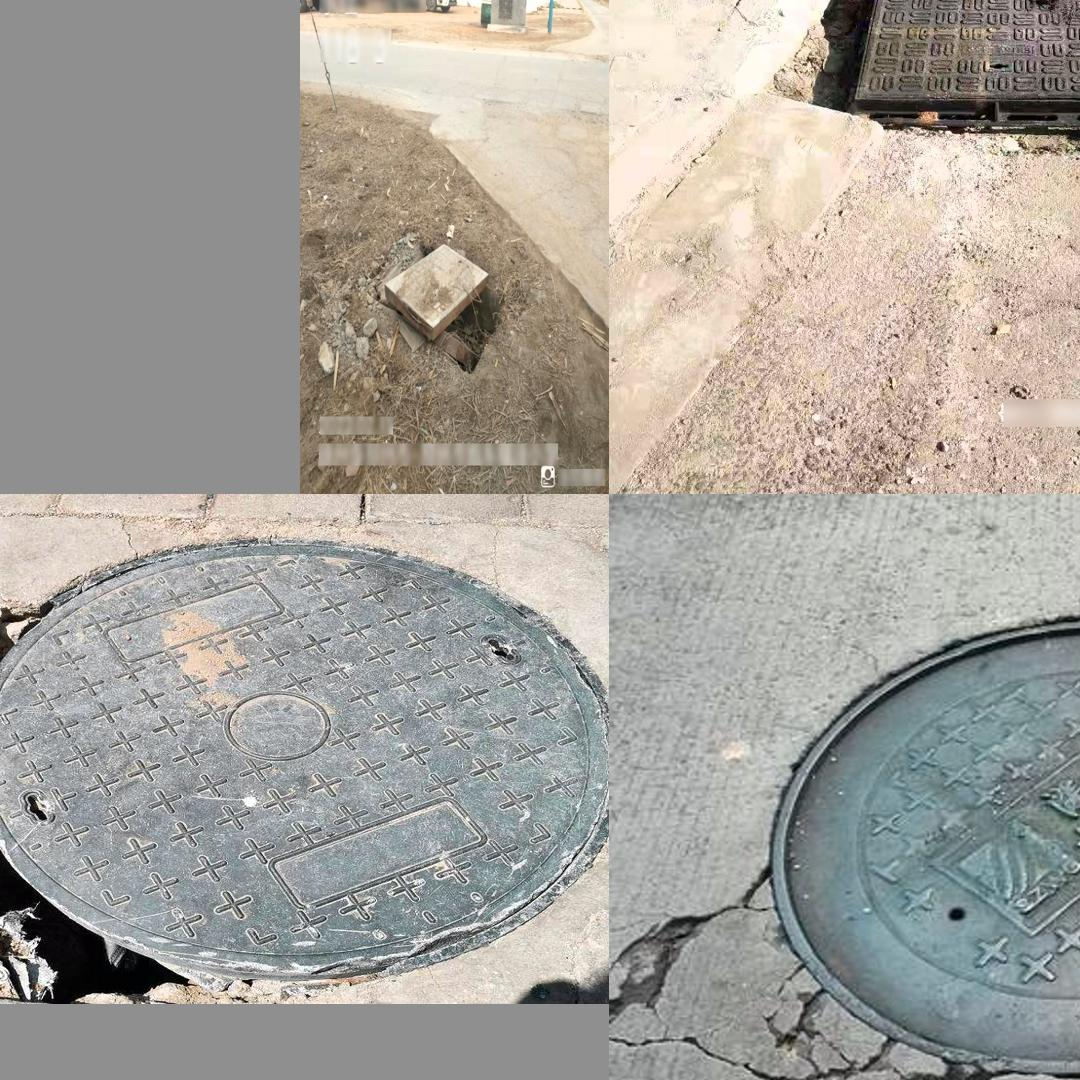circle: (0, 541, 594, 989), (629, 565, 1080, 1080), (806, 0, 1080, 147), (367, 228, 512, 385)
